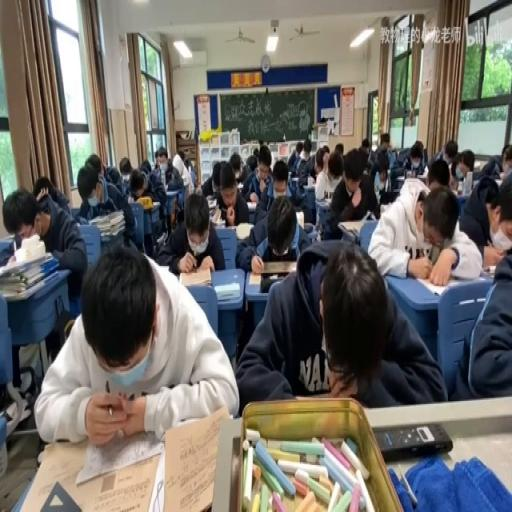calculator: (10, 428, 163, 512), (160, 405, 231, 512), (249, 256, 298, 286), (414, 273, 456, 296), (179, 264, 211, 286), (214, 280, 240, 300), (0, 234, 14, 260), (234, 222, 252, 240), (210, 205, 222, 223), (155, 230, 166, 248), (295, 210, 304, 229), (482, 263, 498, 273), (165, 186, 181, 196), (206, 194, 217, 208), (153, 263, 170, 272), (182, 179, 190, 198), (303, 220, 315, 232), (374, 170, 380, 194), (379, 202, 392, 213), (316, 196, 330, 206), (406, 168, 418, 178), (366, 209, 376, 219), (498, 174, 508, 184), (246, 201, 258, 209), (306, 176, 315, 186), (149, 201, 159, 209), (235, 181, 245, 189)
paper: (36, 240, 237, 444), (234, 236, 438, 408), (369, 176, 481, 283), (2, 183, 86, 306), (237, 184, 313, 270), (76, 160, 138, 254), (158, 189, 224, 276), (325, 145, 379, 239), (475, 170, 511, 268), (206, 160, 249, 228), (130, 164, 168, 234), (367, 135, 396, 184), (477, 144, 509, 180), (403, 138, 429, 173), (161, 156, 184, 192), (426, 158, 450, 190), (288, 176, 307, 205), (286, 140, 302, 174), (32, 175, 51, 202), (442, 138, 458, 165), (458, 150, 474, 176), (272, 164, 288, 188), (106, 164, 122, 186), (447, 165, 460, 192), (85, 154, 101, 175), (258, 148, 271, 173), (96, 175, 108, 202), (118, 155, 132, 178), (244, 154, 258, 175), (154, 145, 167, 166), (138, 160, 152, 176), (302, 141, 312, 159), (379, 132, 390, 148), (184, 156, 193, 174), (360, 138, 370, 154), (334, 142, 344, 155), (322, 144, 330, 160), (178, 148, 186, 163), (250, 144, 260, 156), (317, 155, 324, 171), (166, 156, 172, 168), (388, 145, 394, 154)
person: (374, 422, 452, 461), (315, 222, 325, 240)
